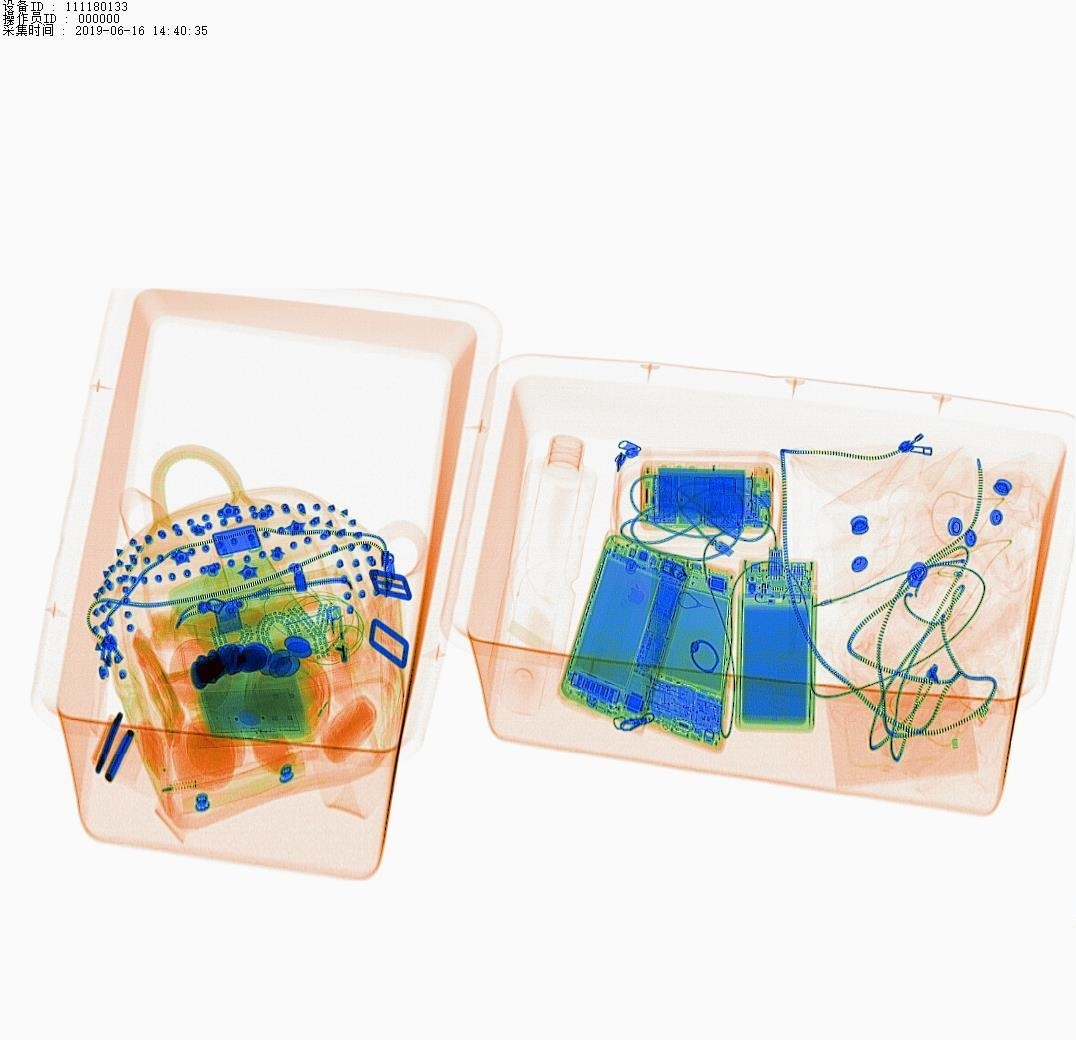NonmetallicFire: (317, 598, 365, 701)
